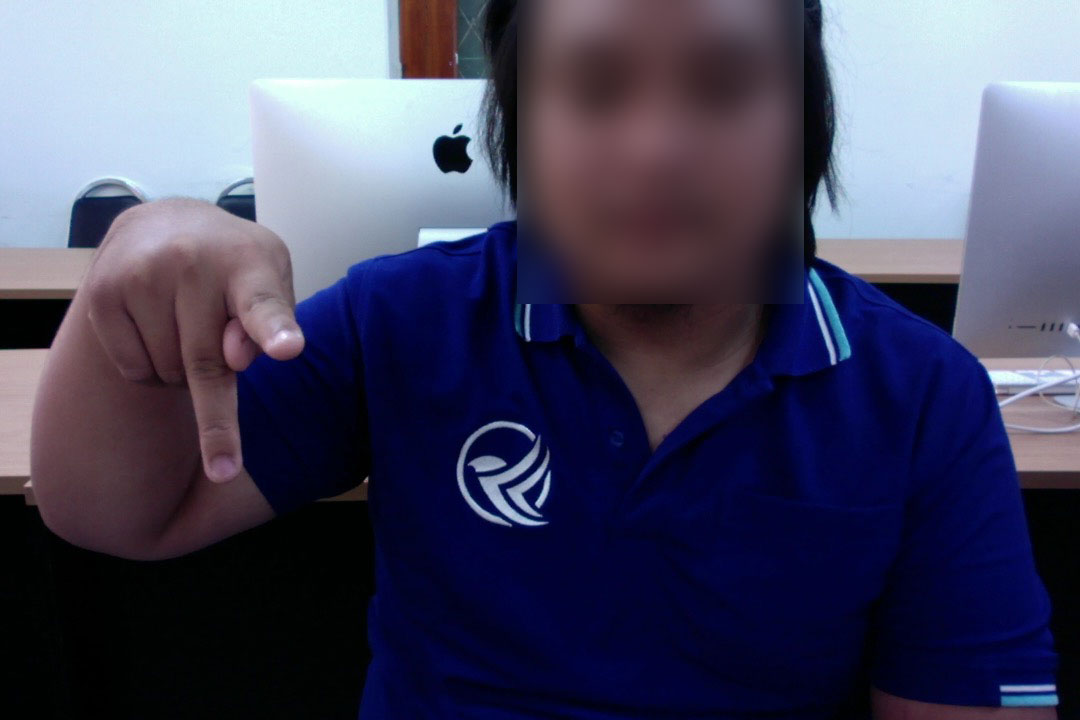por: (80, 181, 312, 494)
